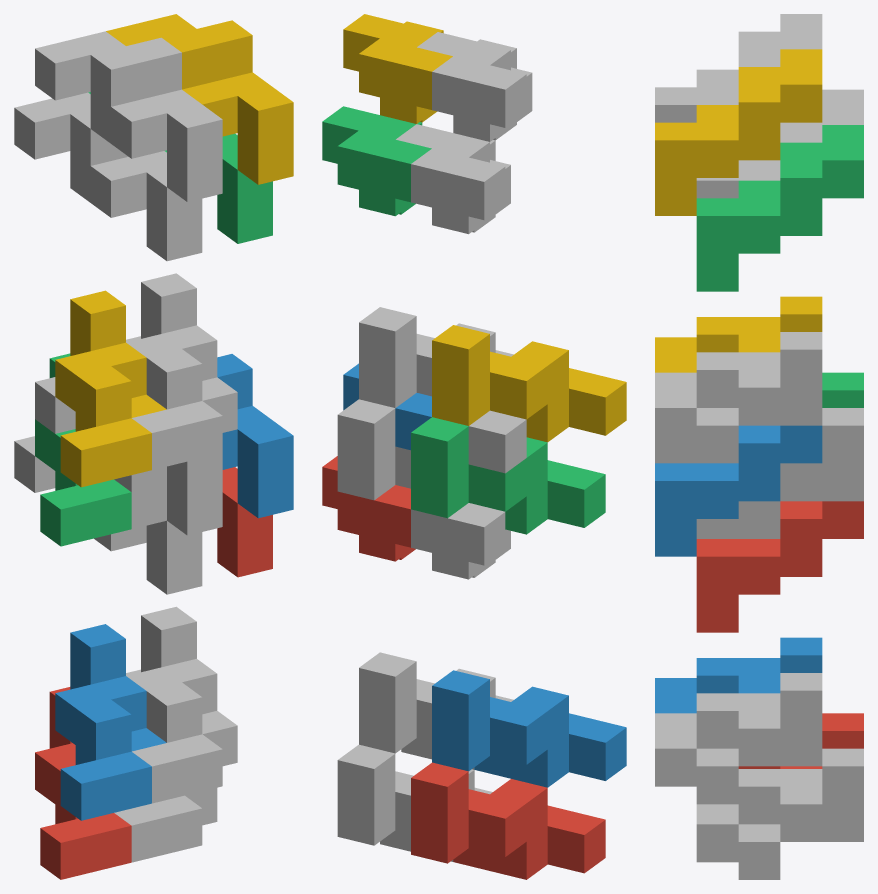
File: tiling.obj
3 renders of one model, left to right at view 1: azimuth 30°, elevation 25°; view 2: azimuth 150°, elevation 25°; view 3: azimuth 270°, elevation 25°, orthographic. The views are drawn at different scales.
Parts seen in each view (by area): view 1: copy_2_domain_4, copy_1_domain_4, copy_1_domain_2, copy_1_domain_6, copy_1_domain_8, copy_2_domain_3, copy_2_domain_8, copy_2_domain_6, copy_1_domain_1, copy_2_domain_2, copy_1_domain_3, copy_2_domain_1 (+4 smaller); view 2: copy_1_domain_2, copy_1_domain_1, copy_1_domain_4, copy_1_domain_3, copy_2_domain_4, copy_2_domain_3, copy_2_domain_8, copy_2_domain_7, copy_1_domain_6, copy_1_domain_5, copy_1_domain_8, copy_1_domain_7 (+4 smaller); view 3: copy_1_domain_8, copy_1_domain_6, copy_2_domain_7, copy_1_domain_5, copy_2_domain_8, copy_2_domain_6, copy_2_domain_5, copy_1_domain_7, copy_2_domain_4, copy_1_domain_2, copy_1_domain_4, copy_2_domain_3 (+4 smaller).
Boxes of the visible parts, box(x1,y1,x2,y2) form: copy_2_domain_4: box(35, 31, 222, 201); copy_1_domain_4: box(55, 290, 166, 487); copy_1_domain_2: box(55, 624, 166, 820); copy_1_domain_6: box(126, 606, 237, 803); copy_1_domain_8: box(126, 273, 237, 469); copy_2_domain_3: box(14, 92, 202, 261); copy_2_domain_8: box(106, 14, 293, 184); copy_2_domain_6: box(217, 354, 293, 518); copy_1_domain_1: box(35, 687, 131, 879); copy_2_domain_2: box(35, 377, 222, 535); copy_1_domain_3: box(35, 353, 131, 546); copy_2_domain_1: box(14, 436, 202, 594); copy_1_domain_2: box(432, 670, 626, 787); copy_1_domain_1: box(411, 762, 605, 879); copy_1_domain_4: box(432, 325, 626, 442); copy_1_domain_3: box(411, 417, 605, 534); copy_2_domain_4: box(417, 32, 532, 141); copy_2_domain_3: box(396, 124, 510, 234); copy_2_domain_8: box(343, 14, 452, 123); copy_2_domain_7: box(322, 106, 431, 216); copy_1_domain_6: box(359, 652, 513, 769); copy_1_domain_5: box(337, 744, 492, 861); copy_1_domain_8: box(359, 307, 513, 407); copy_1_domain_7: box(337, 399, 410, 500); copy_1_domain_8: box(655, 332, 822, 463); copy_1_domain_6: box(655, 673, 822, 804); copy_2_domain_7: box(696, 125, 863, 291); copy_1_domain_5: box(696, 748, 863, 879); copy_2_domain_8: box(655, 49, 822, 215); copy_2_domain_6: box(655, 425, 822, 556); copy_2_domain_5: box(696, 501, 863, 632); copy_1_domain_7: box(696, 408, 863, 538); copy_2_domain_4: box(655, 14, 822, 122); copy_1_domain_2: box(655, 637, 822, 713); copy_1_domain_4: box(655, 296, 822, 372); copy_2_domain_3: box(696, 89, 863, 198).
Bounding box in the file's own units: 6 × 21 × 5.
